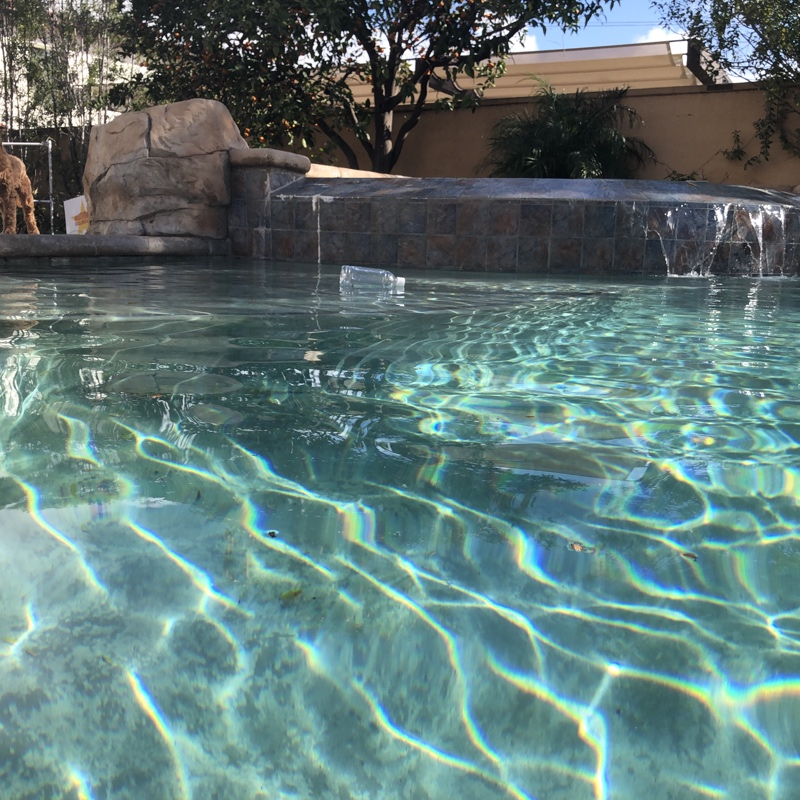Plastic Bottle: (337, 259, 407, 300)
